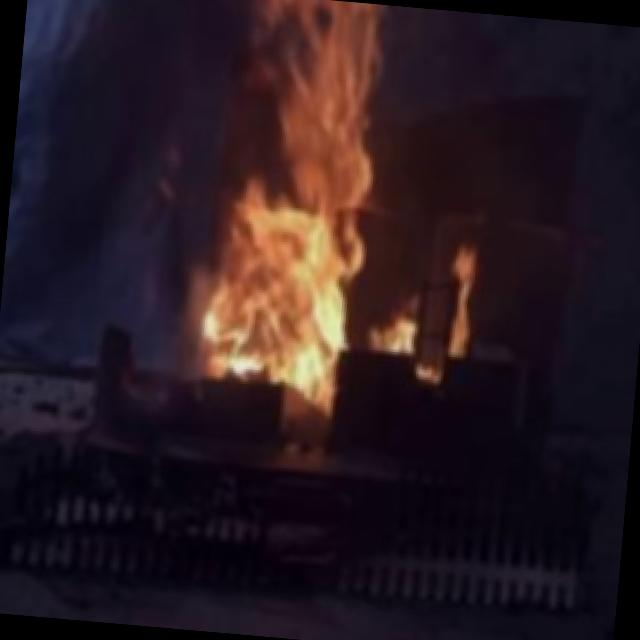fire: (158, 0, 407, 407)
